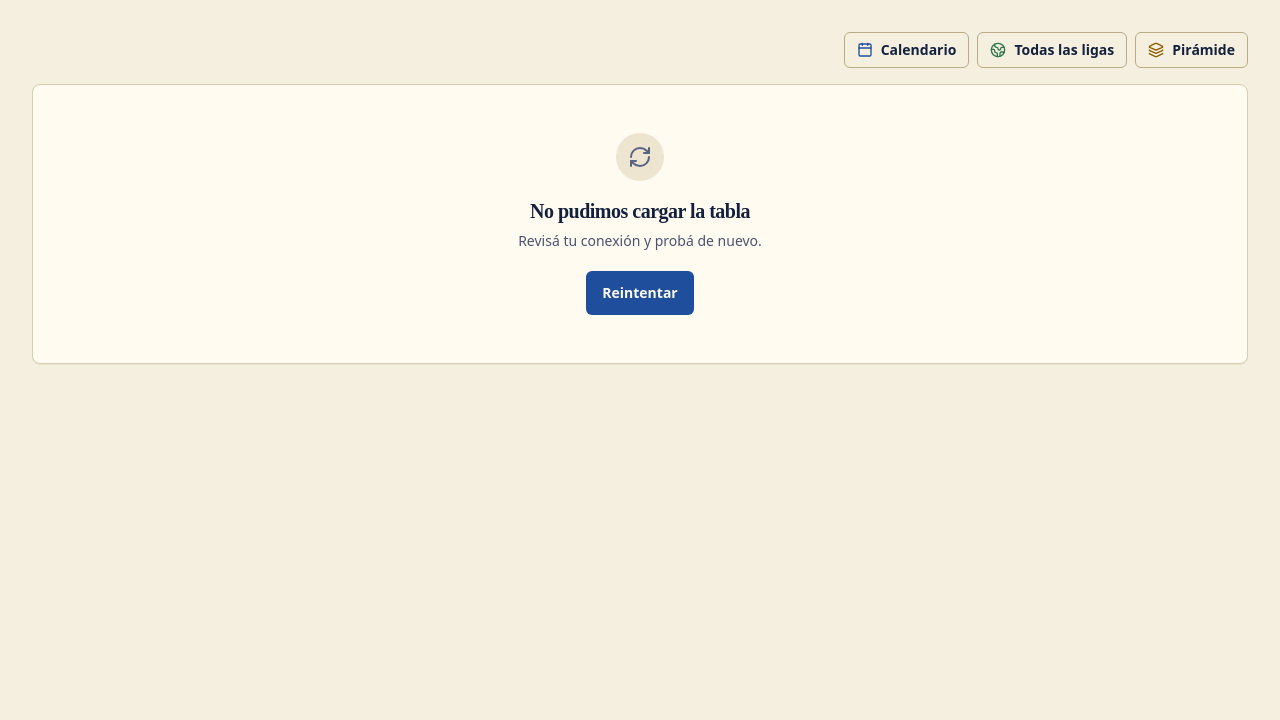
Test: pantalla Tabla › si la carga falla no inventa una tabla: avisa y deja reintentar
Expected: the heading "No pudimos cargar la tabla" is shown, [530,197,750,225]
Click the button "Reintentar": click(640, 293) [586,271,694,315]
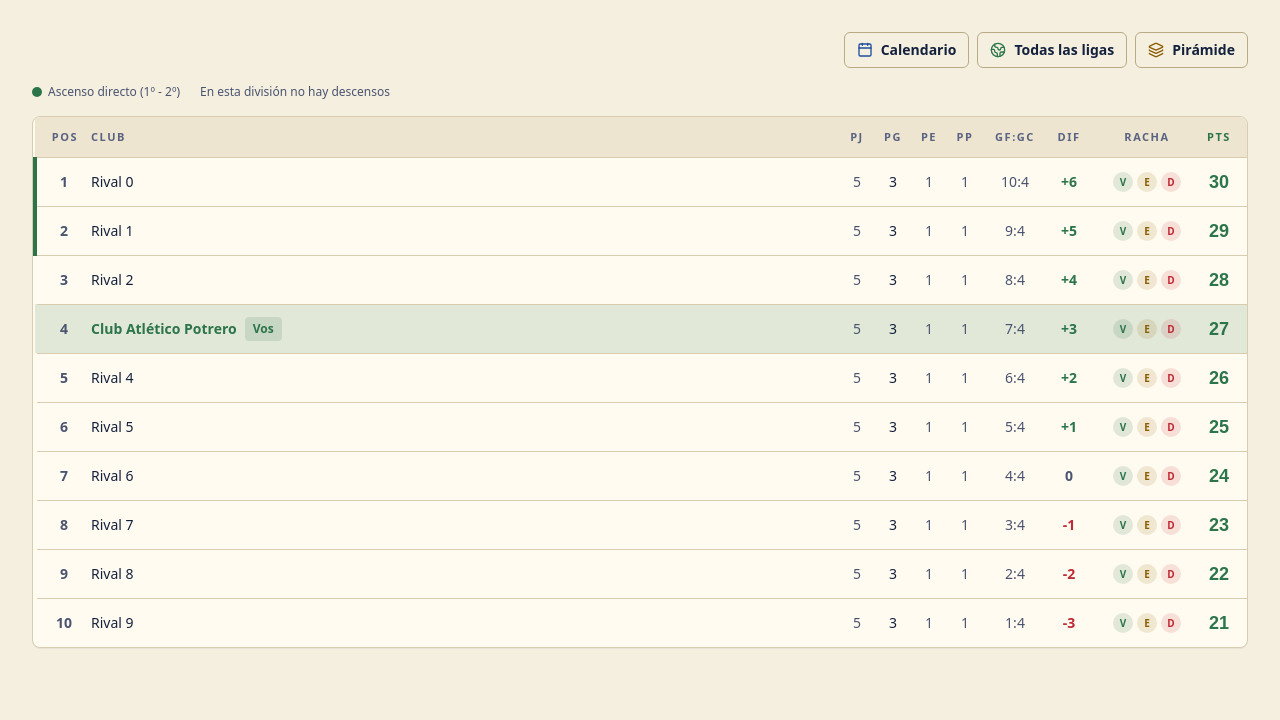
Expected: the table named "Tabla de posiciones" is shown
